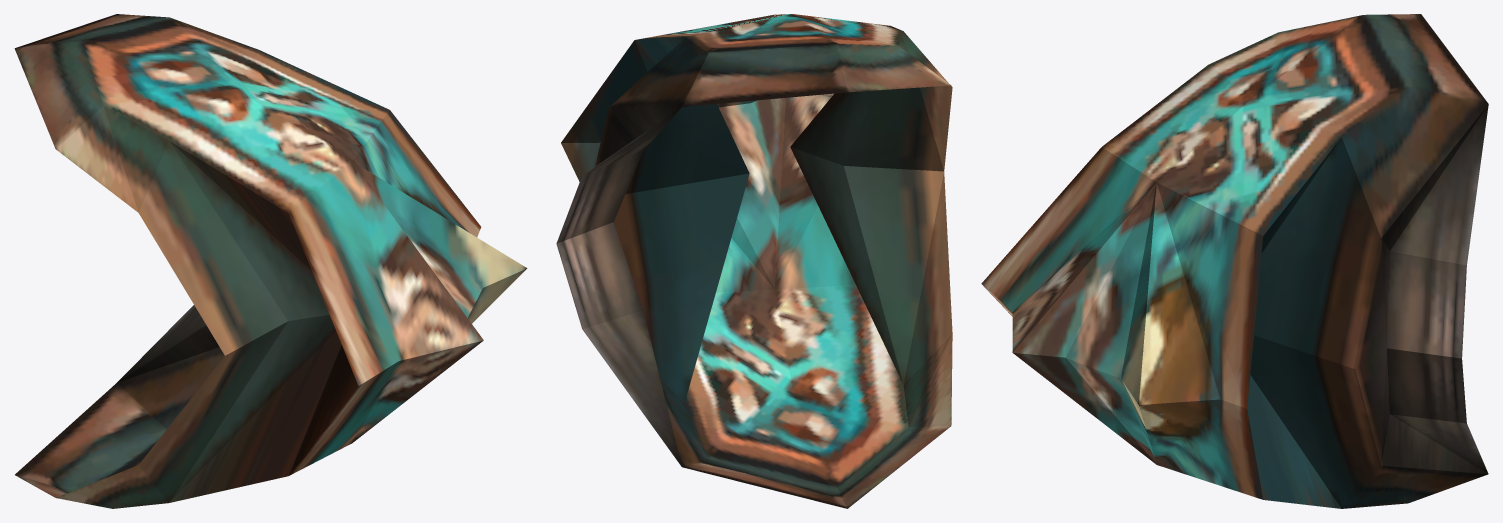
The model's file is common_shoulder_43050.obj.
3 renders of one model, left to right at view 1: azimuth 30°, elevation 25°; view 2: azimuth 150°, elevation 25°; view 3: azimuth 270°, elevation 25°, orthographic. The views are drawn at different scales.
Parts seen in each view (by area): view 1: common_shoulder_43050; view 2: common_shoulder_43050; view 3: common_shoulder_43050.
Boxes of the visible parts, x1,y1,x2,y2 form: common_shoulder_43050: (14, 14, 527, 508); common_shoulder_43050: (556, 14, 952, 508); common_shoulder_43050: (981, 14, 1488, 508).
Bounding box in the file's own units: 12.87 × 13.49 × 13.65.
Materials: 1 (1 with a texture image).
